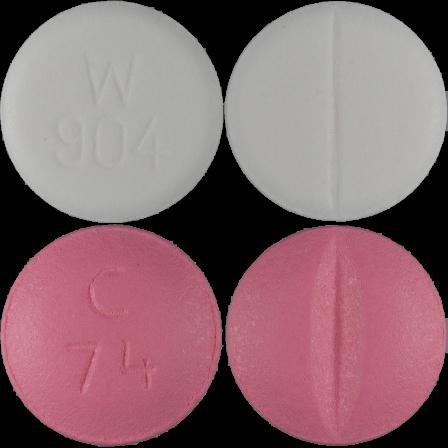68645-162: (0, 0, 224, 224)
